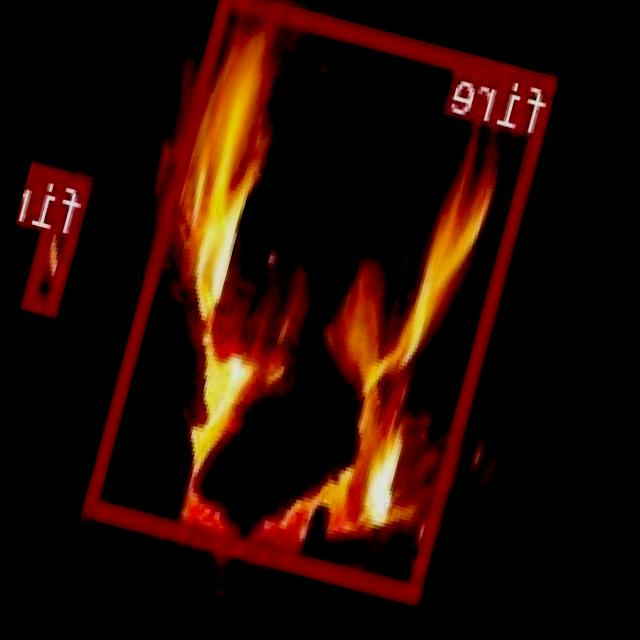fire: (85, 0, 561, 602), (24, 168, 94, 312)
